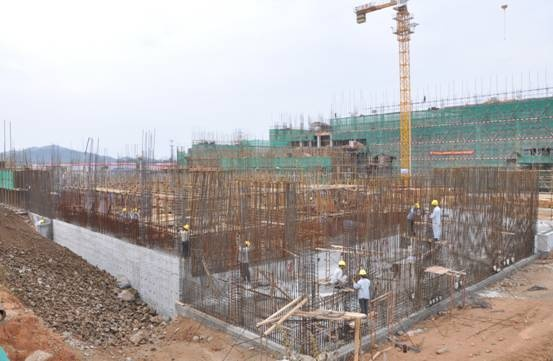yellow: (430, 199, 438, 208), (358, 269, 366, 278), (412, 202, 420, 211), (242, 240, 250, 248), (338, 260, 345, 269), (182, 224, 189, 232)
